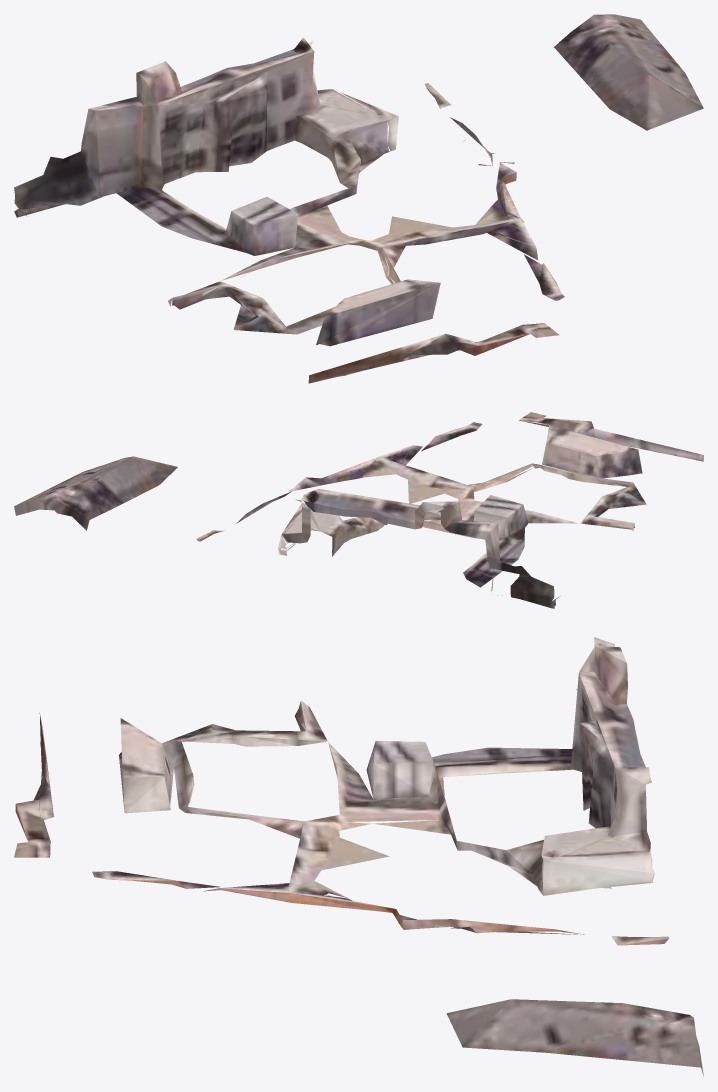
3 renders of one model, top to bottom at view 1: azimuth 30°, elevation 25°; view 2: azimuth 150°, elevation 25°; view 3: azimuth 270°, elevation 25°, orthographic. The views are drawn at different scales.
Parts seen in each view (by area): view 1: Mesh_0; view 2: Mesh_0; view 3: Mesh_0.
Boxes of the visible parts, x1=… form: Mesh_0: x1=14, y1=14, x2=703, y2=383; Mesh_0: x1=14, y1=412, x2=703, y2=608; Mesh_0: x1=14, y1=637, x2=703, y2=1075.
Size of the model in its own units: 57.3 by 9.91 by 44.73.
Materials: 1 (1 with a texture image).
